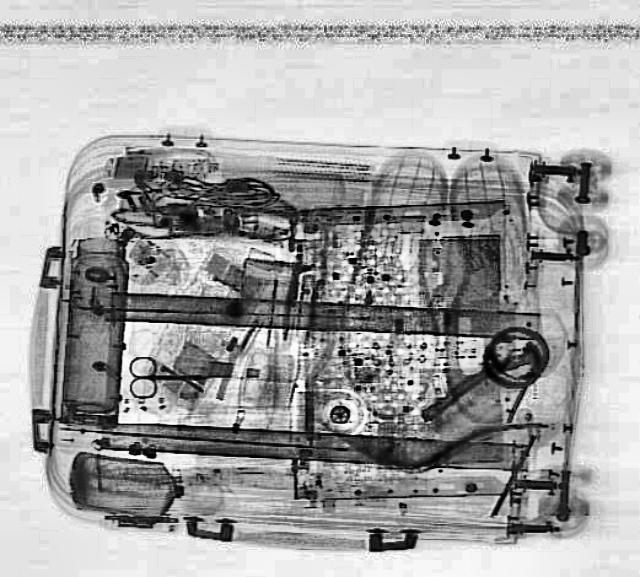Scissors: (125, 352, 198, 396)
